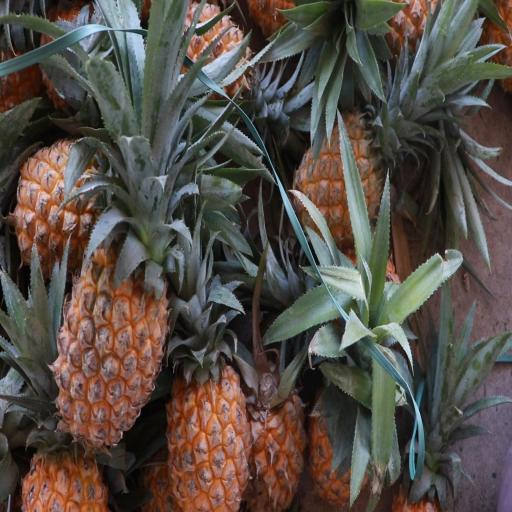Pineapple - v8 v1: (49, 212, 171, 456), (4, 133, 144, 282), (290, 106, 388, 260), (163, 357, 252, 512), (20, 366, 108, 512), (251, 355, 309, 512)
